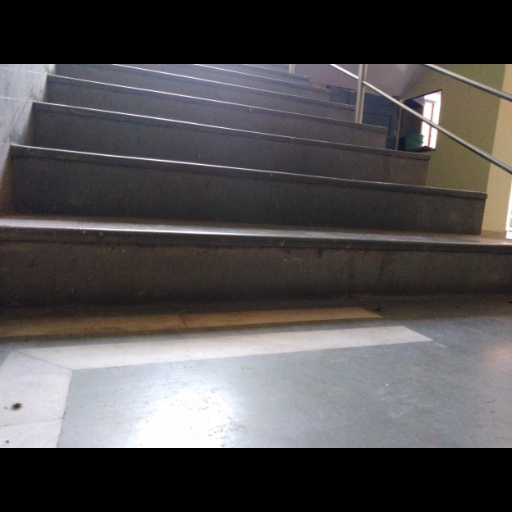Stairs: (0, 65, 512, 306)
